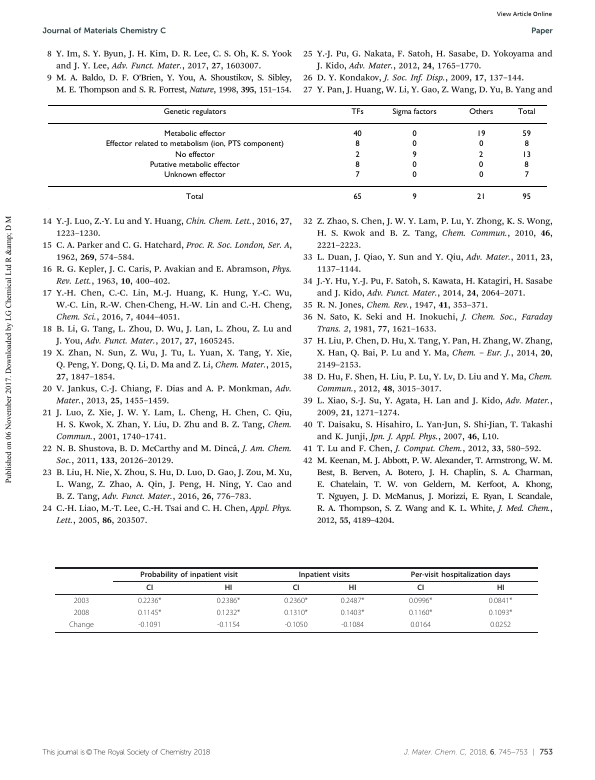borderless: (46, 103, 548, 210), (55, 566, 538, 632)
cell: (104, 140, 284, 150), (148, 160, 240, 170), (410, 570, 511, 579), (139, 570, 239, 579), (162, 107, 227, 117), (163, 130, 226, 139), (163, 171, 226, 180), (298, 570, 351, 579), (391, 107, 437, 117), (174, 150, 215, 160), (68, 620, 95, 630), (468, 107, 494, 117), (283, 596, 309, 606), (283, 608, 309, 618), (137, 596, 162, 606), (216, 596, 241, 606), (340, 596, 365, 606), (408, 596, 433, 606), (488, 596, 513, 606), (137, 608, 162, 618), (216, 608, 241, 618), (340, 608, 365, 618), (408, 608, 433, 618), (488, 608, 513, 618), (137, 620, 162, 630), (216, 620, 241, 630), (340, 620, 365, 630), (284, 620, 308, 630), (409, 620, 432, 630), (489, 620, 512, 630), (516, 107, 536, 117), (185, 193, 204, 203), (73, 596, 90, 606), (73, 608, 90, 618), (350, 107, 364, 117), (521, 150, 531, 160), (352, 193, 362, 203), (476, 193, 486, 203), (521, 193, 531, 203), (352, 130, 362, 139), (476, 130, 486, 139), (521, 130, 531, 139), (145, 583, 154, 593), (224, 583, 233, 593), (348, 583, 357, 593), (416, 583, 425, 593), (496, 583, 505, 593), (292, 583, 300, 593), (354, 140, 360, 150), (411, 140, 417, 150), (478, 140, 484, 150), (523, 140, 529, 150), (354, 150, 360, 160), (411, 150, 417, 160), (478, 150, 484, 160), (354, 160, 360, 170), (411, 160, 417, 170), (478, 160, 484, 170), (523, 160, 529, 170), (411, 193, 417, 203), (411, 130, 417, 139), (354, 171, 360, 180), (411, 171, 417, 180), (478, 171, 484, 180), (523, 171, 529, 180)
